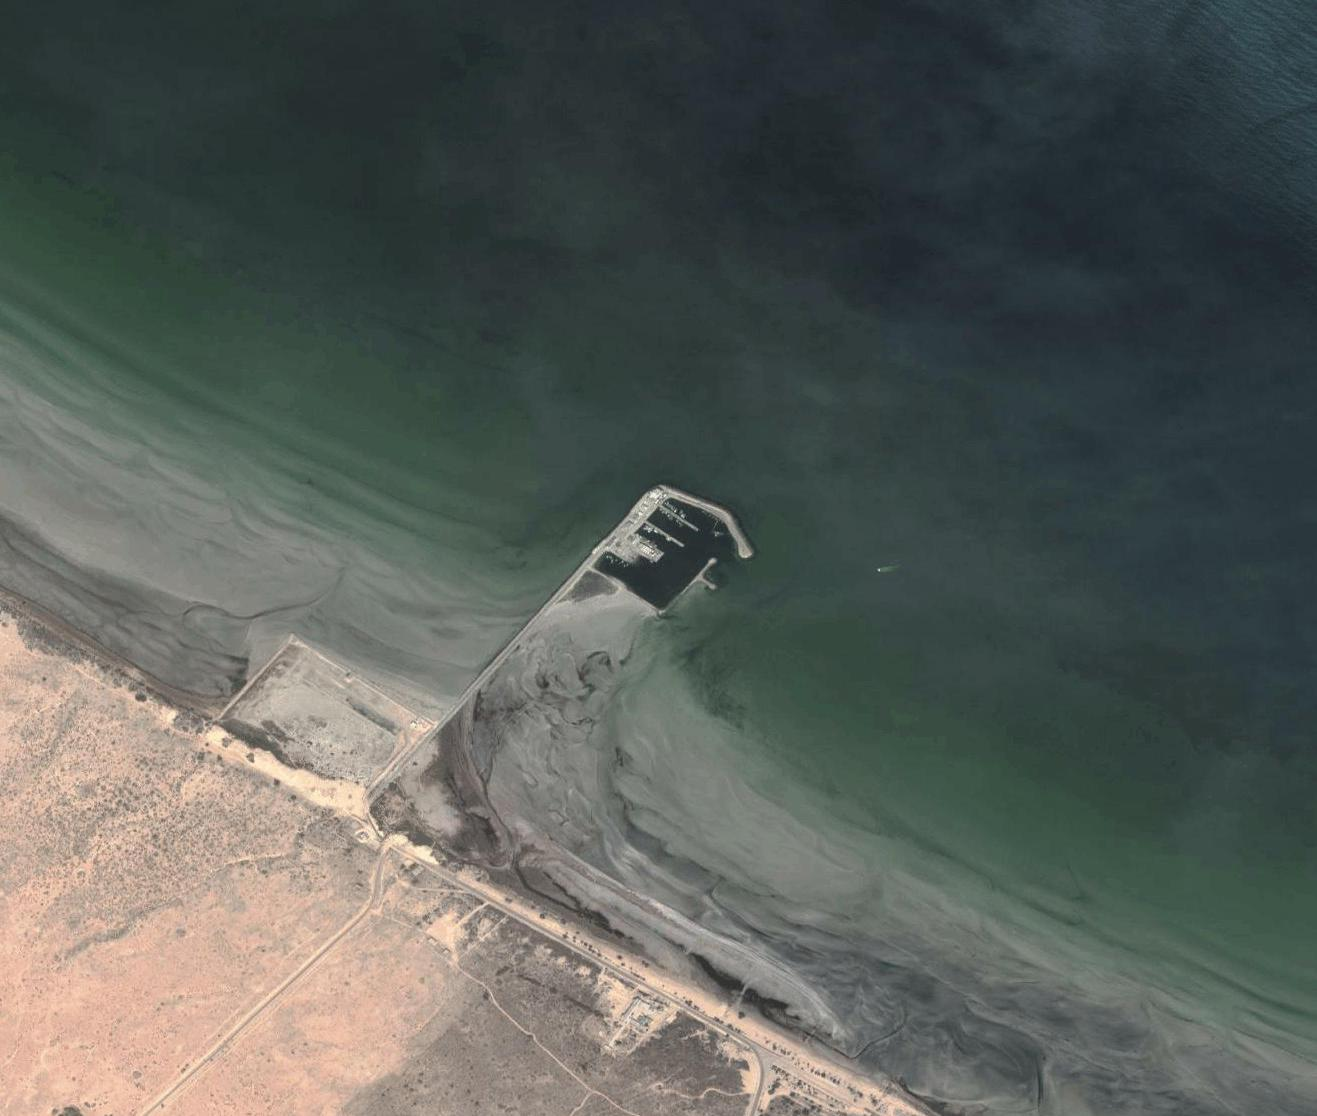harbor: (578, 473, 758, 627)
